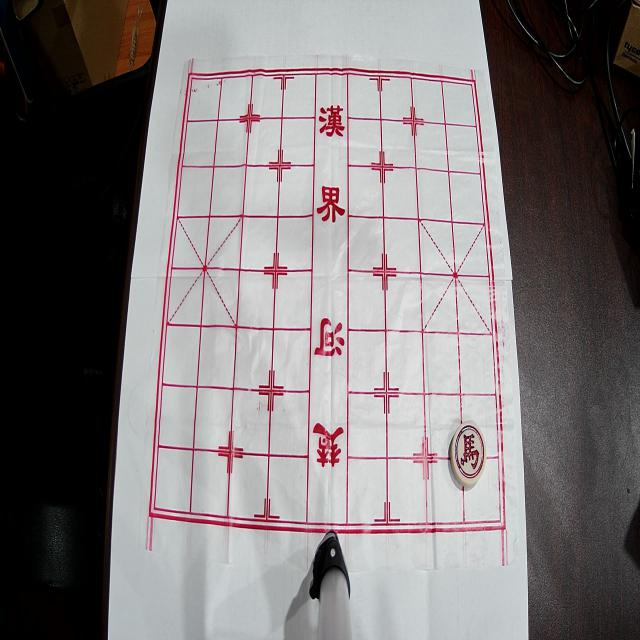red-horse: (451, 421, 486, 487)
